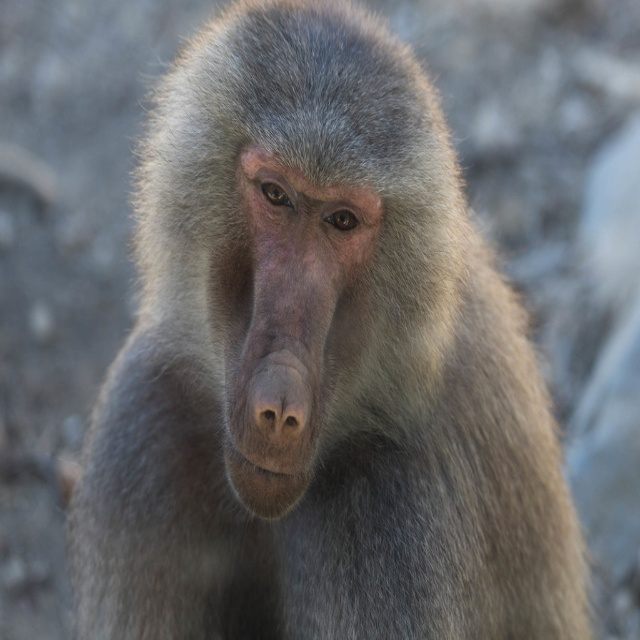Monkey: (55, 0, 607, 640)
